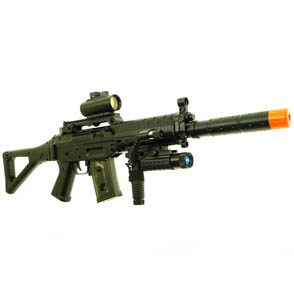rifle: (5, 90, 289, 209)
